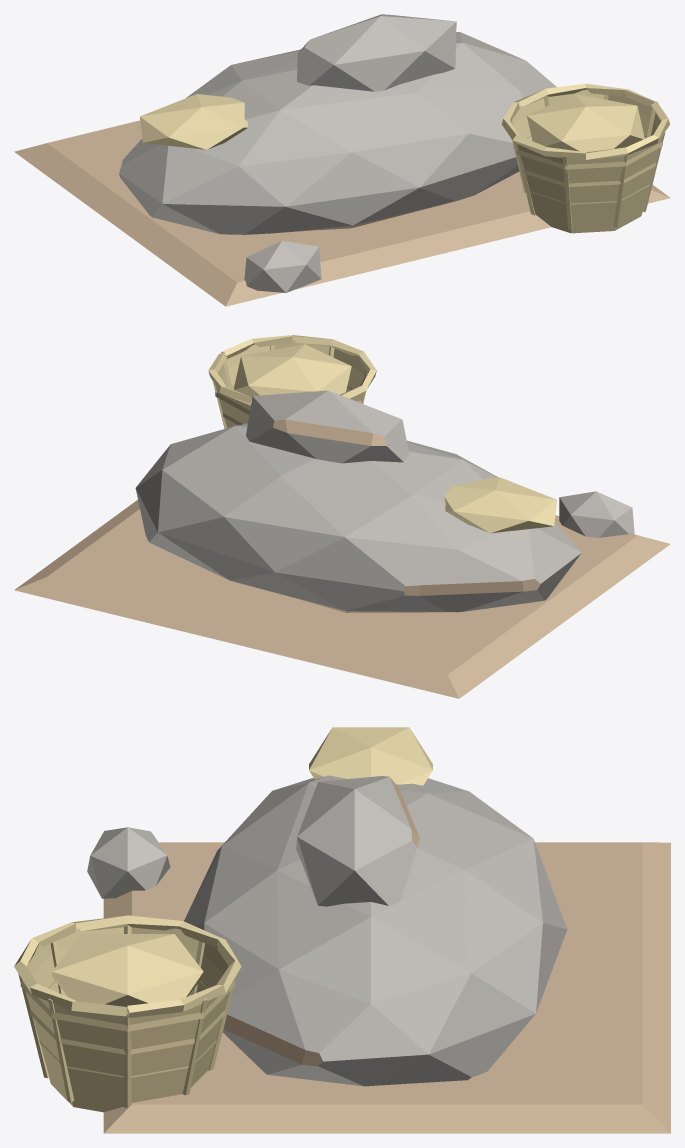
The model's file is grinding_stone.glb.
3 views of the same model, one above another, from view 1: azimuth 30°, elevation 25°; view 2: azimuth 150°, elevation 25°; view 3: azimuth 270°, elevation 25° (orthographic). The views are drawn at different scales.
Parts seen in each view (by area): view 1: grinding_stone; view 2: grinding_stone; view 3: grinding_stone.
Boxes of the visible parts, x1,y1,x2,y2 form: grinding_stone: (14, 14, 670, 306); grinding_stone: (14, 335, 670, 698); grinding_stone: (14, 727, 670, 1133).
Bounding box in the file's own units: 0.85 × 0.2944 × 0.8104.
